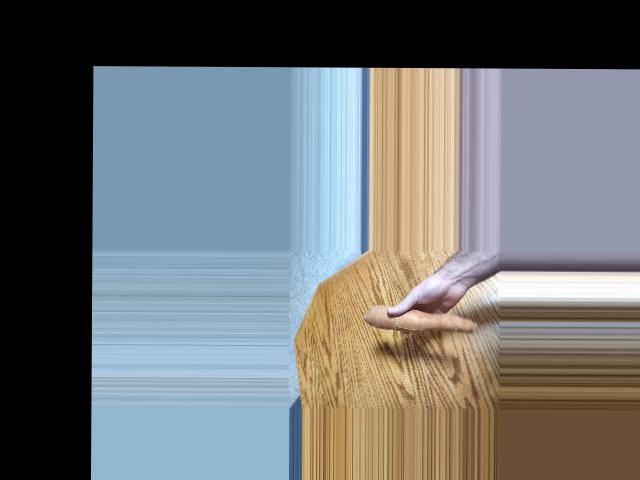sweet_potato: (366, 309, 481, 335)
